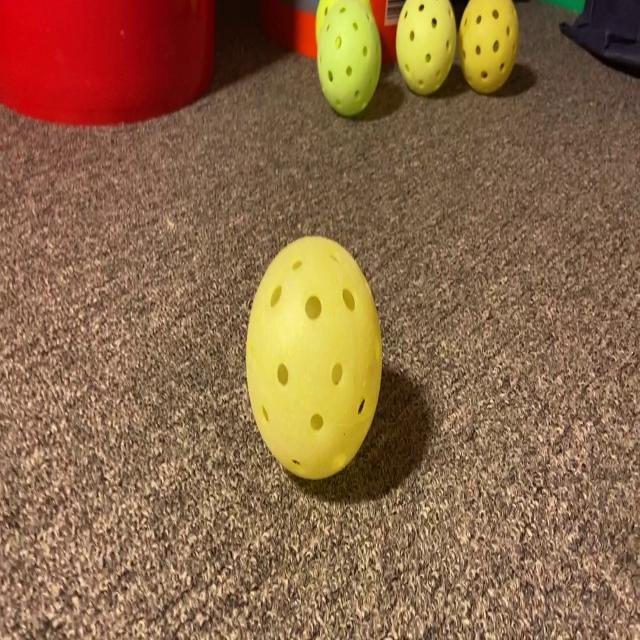ball: (231, 230, 388, 506)
